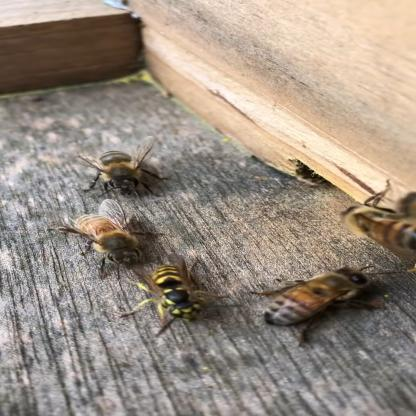bee: (232, 251, 388, 346), (327, 174, 416, 256), (71, 133, 170, 197), (55, 206, 146, 272)
hornet: (122, 245, 220, 332)
